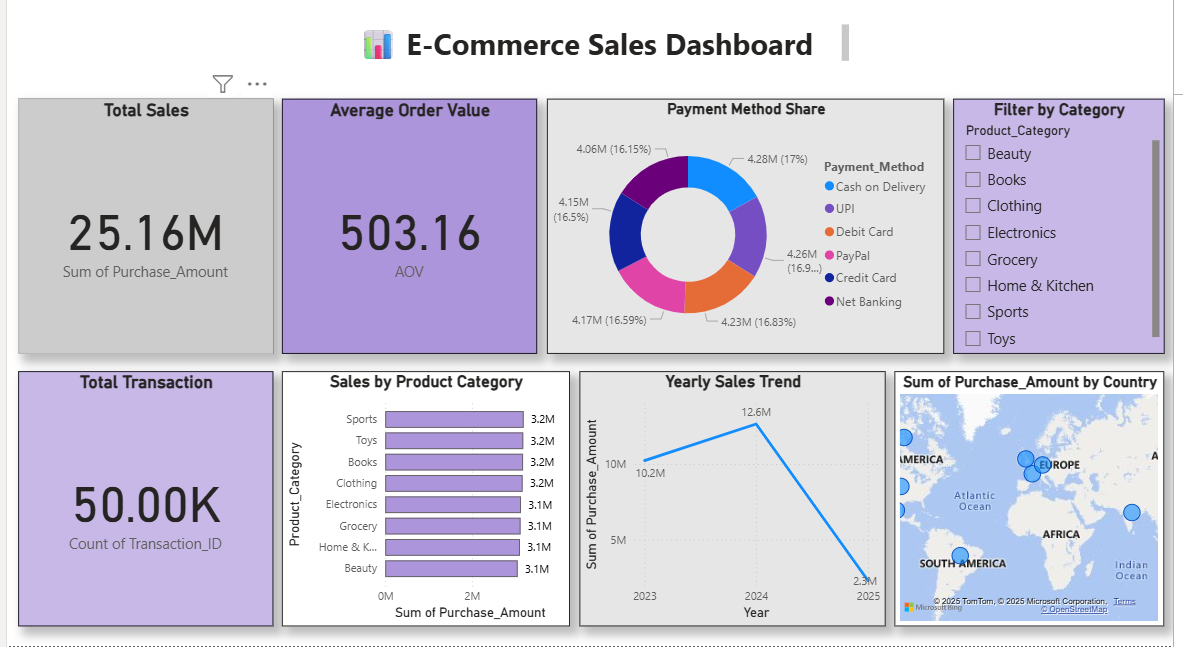

This screenshot's page, from the dashboard's own definition file:
{"tool":"powerbi","page":{"name":"Page 1","canvas":[1280,720],"ordinal":0},"visuals":[{"type":"card","title":"Total Sales","fields":{"Values":["Sum(ecommerce_transactions.Purchase_Amount)"]},"box":[12.3,119.4,279.9,279.9],"z":0},{"type":"card","title":"Total Transaction","fields":{"Values":["CountNonNull(ecommerce_transactions.Transaction_ID)"]},"box":[12.3,418.5,279.9,279.9],"z":1000},{"type":"card","title":"Average Order Value","fields":{"Values":["ecommerce_transactions.AOV"]},"box":[301.9,119.4,279.9,279.9],"z":2000},{"type":"clusteredBarChart","title":"Sales by Product Category","fields":{"Category":["ecommerce_transactions.Product_Category"],"Y":["Sum(ecommerce_transactions.Purchase_Amount)"]},"box":[301.9,418.5,315.6,279.9],"z":3000},{"type":"donutChart","title":"Payment Method Share","fields":{"Category":["ecommerce_transactions.Payment_Method"],"Y":["Sum(ecommerce_transactions.Purchase_Amount)"]},"box":[592.8,119.4,436.4,279.9],"z":4000},{"type":"slicer","title":"Filter by Category","fields":{"Values":["ecommerce_transactions.Product_Category"]},"box":[1038.8,119.4,231.9,279.9],"z":6000},{"type":"lineChart","title":"Yearly Sales Trend","fields":{"Category":["ecommerce_transactions.Transaction_Date.Variation.Date Hierarchy.Year","ecommerce_transactions.Transaction_Date.Variation.Date Hierarchy.Quarter","ecommerce_transactions.Transaction_Date.Variation.Date Hierarchy.Month","ecommerce_transactions.Transaction_Date.Variation.Date Hierarchy.Day"],"Y":["Sum(ecommerce_transactions.Purchase_Amount)"]},"box":[628.5,418.5,336.2,279.9],"z":6001},{"type":"map","fields":{"Category":["ecommerce_transactions.Country"],"Size":["Sum(ecommerce_transactions.Purchase_Amount)"]},"box":[974.3,418.5,296.4,279.9],"z":6002},{"type":"textbox","box":[349.9,32.9,579.1,59],"z":6003}]}

Visuals, with their boxes in screenshot pixels (x1, y1, x2, y2):
"Total Sales" card: region(11, 94, 268, 351)
"Total Transaction" card: region(11, 369, 268, 626)
"Average Order Value" card: region(277, 94, 534, 351)
"Sales by Product Category" clusteredBarChart: region(277, 369, 567, 626)
"Payment Method Share" donutChart: region(545, 94, 946, 351)
"Filter by Category" slicer: region(954, 94, 1167, 351)
"Yearly Sales Trend" lineChart: region(577, 369, 886, 626)
map - ecommerce_transactions.Country x Sum(ecommerce_transactions.Purchase_Amount): region(895, 369, 1167, 626)
textbox: region(321, 15, 853, 69)
